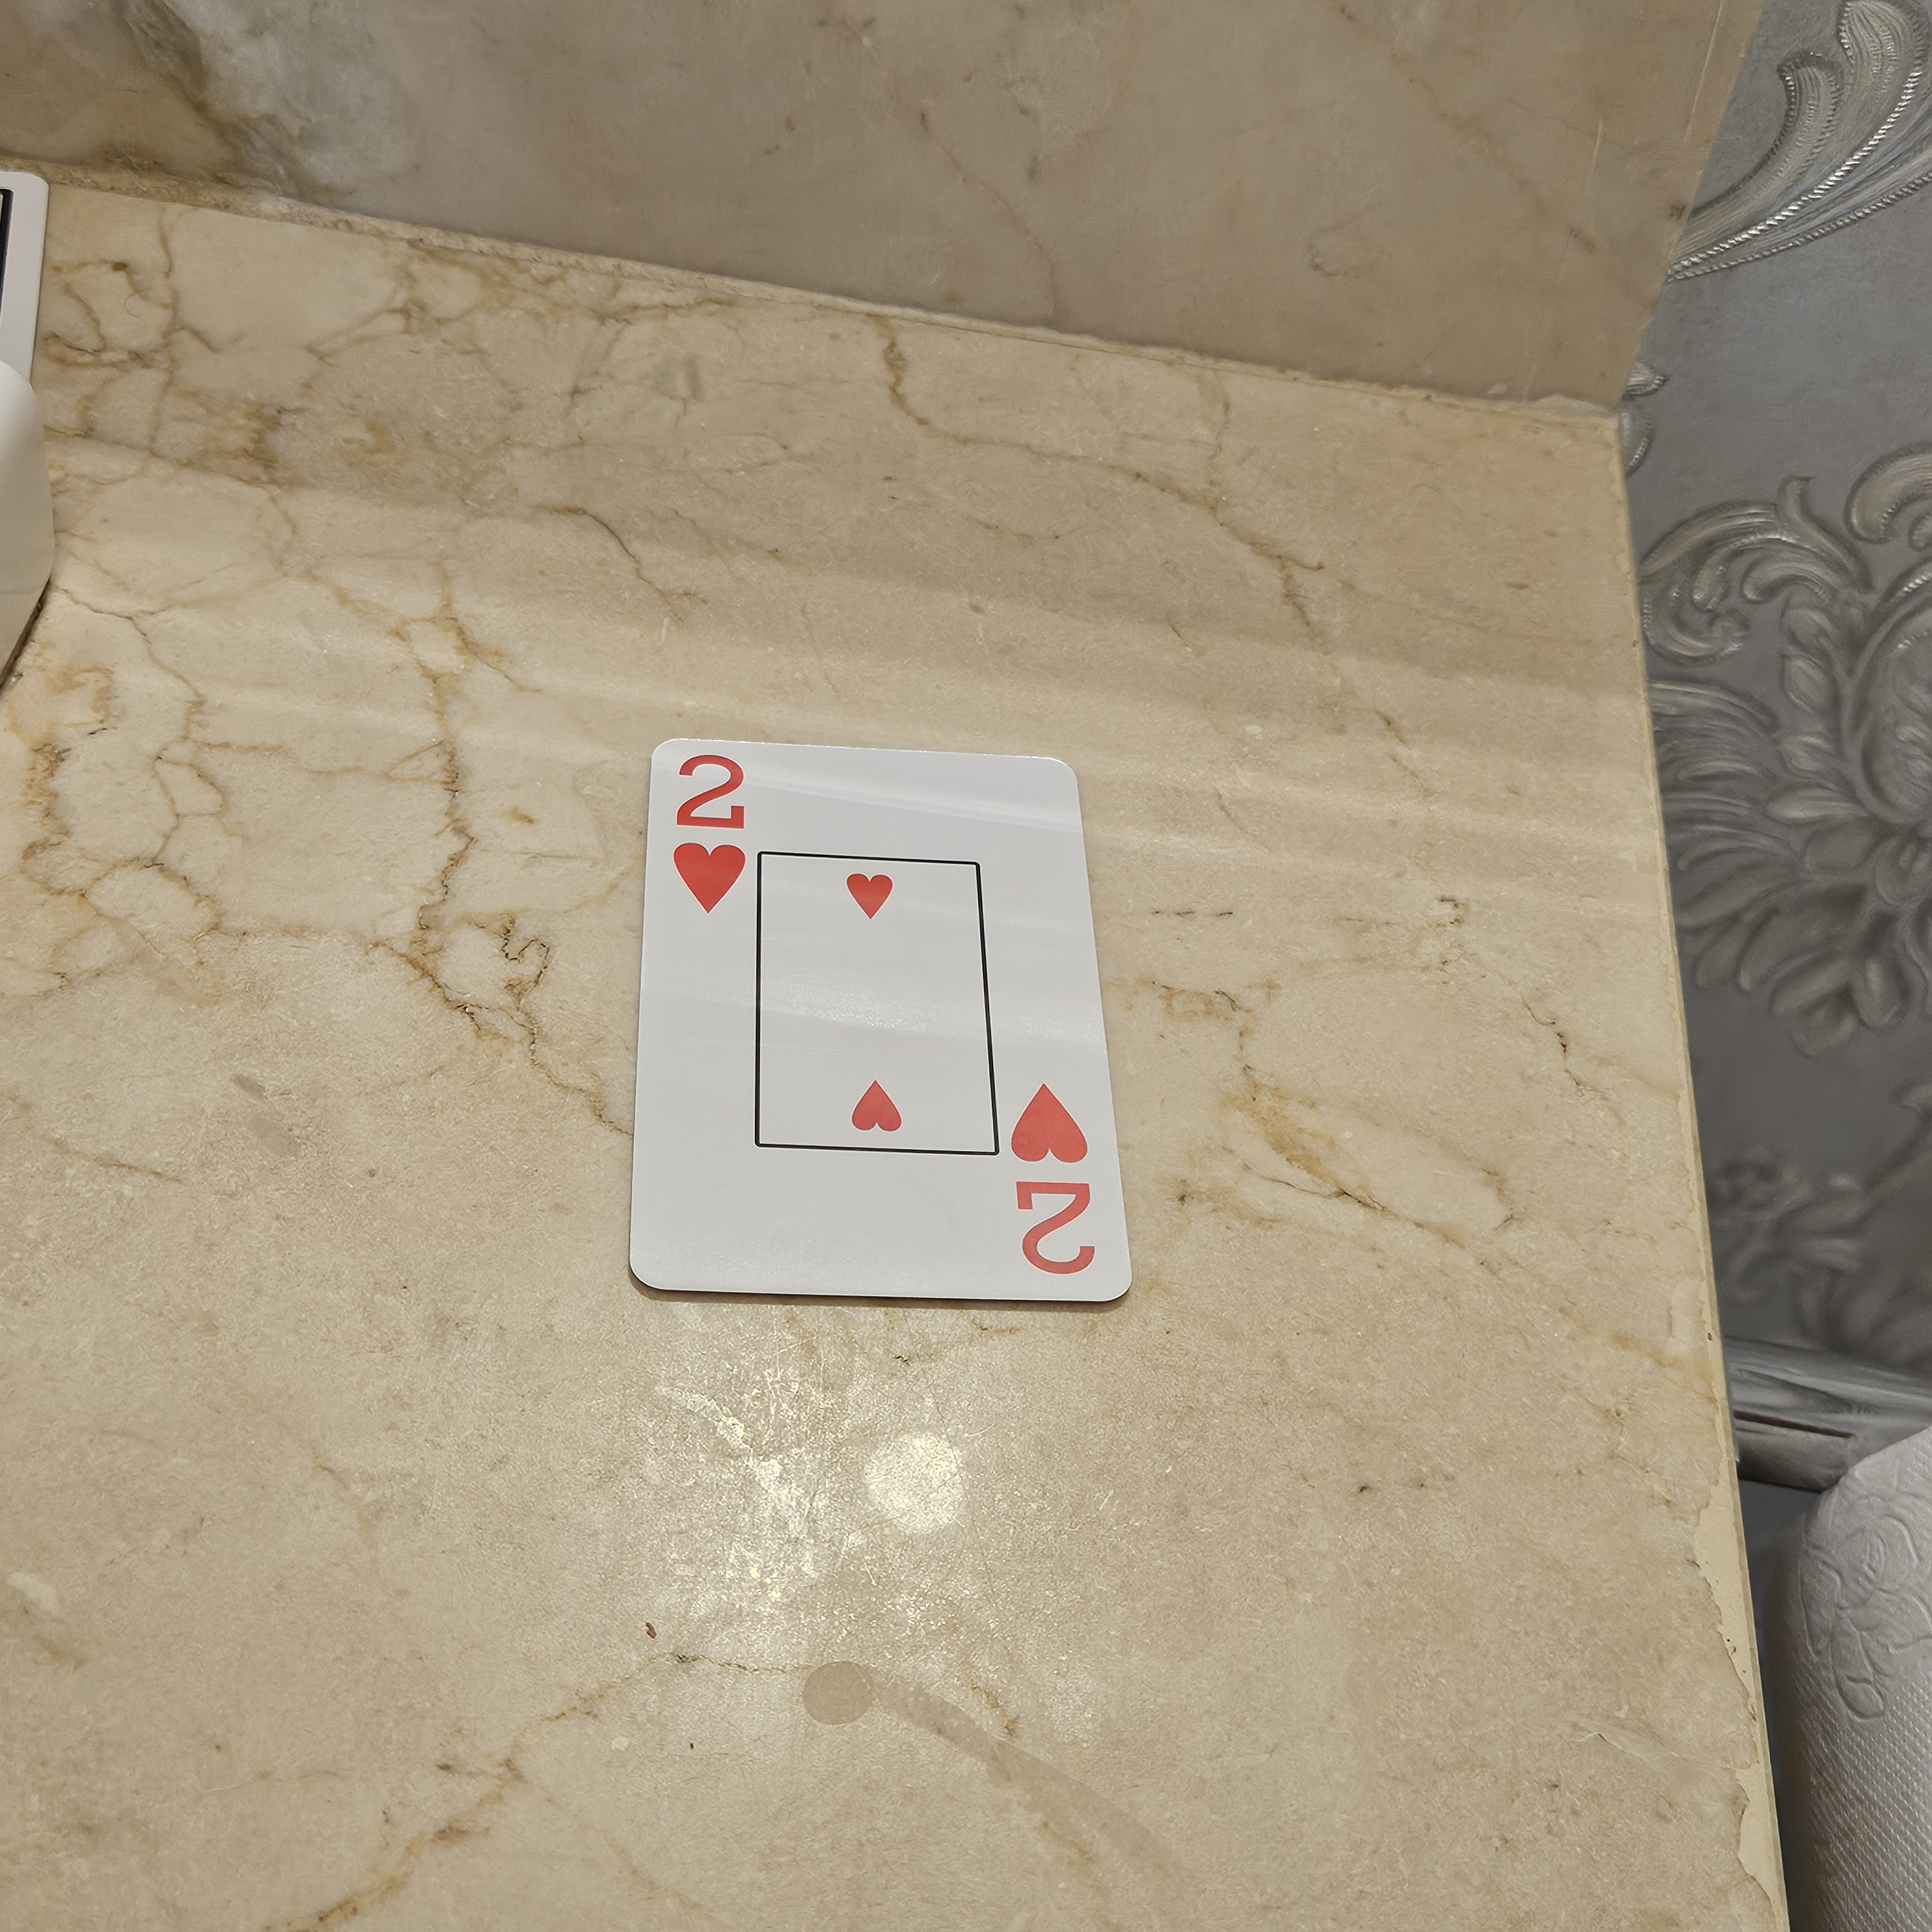2C: (989, 1062, 1113, 1292), (649, 731, 766, 934)
